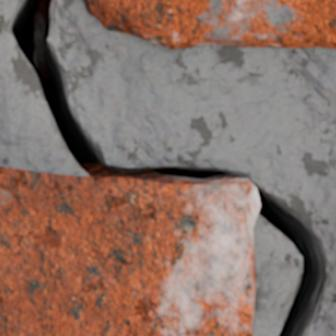brick: (0, 168, 259, 335), (85, 0, 335, 48)
crack: (2, 0, 333, 335)
